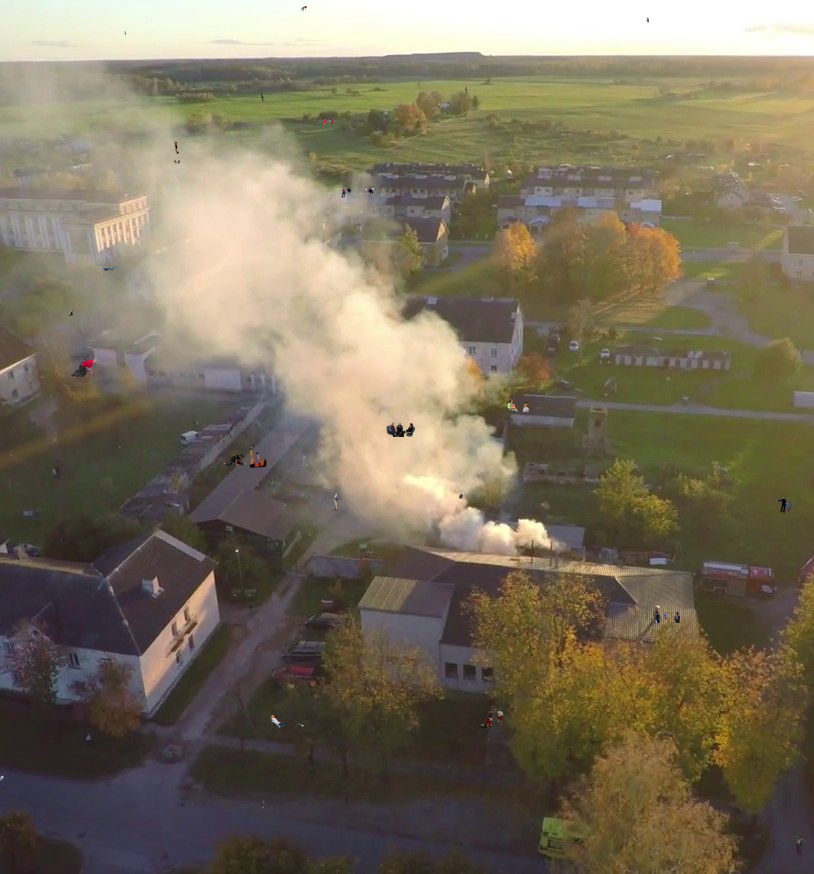Human: (248, 445, 269, 469), (71, 358, 97, 377), (480, 708, 504, 728), (79, 259, 119, 271), (270, 715, 304, 729), (386, 422, 415, 437), (654, 611, 680, 623), (776, 496, 793, 514), (223, 454, 247, 466), (507, 399, 529, 412), (347, 187, 374, 197), (321, 116, 334, 126), (333, 493, 340, 511), (174, 141, 179, 154), (296, 6, 307, 11), (341, 187, 346, 198), (69, 309, 74, 317), (262, 800, 266, 808), (261, 93, 264, 102), (459, 493, 463, 499), (174, 160, 180, 164), (646, 17, 649, 23), (10, 453, 13, 458), (465, 86, 467, 93), (124, 31, 126, 36), (102, 650, 105, 653), (327, 500, 329, 504), (305, 161, 306, 163)
